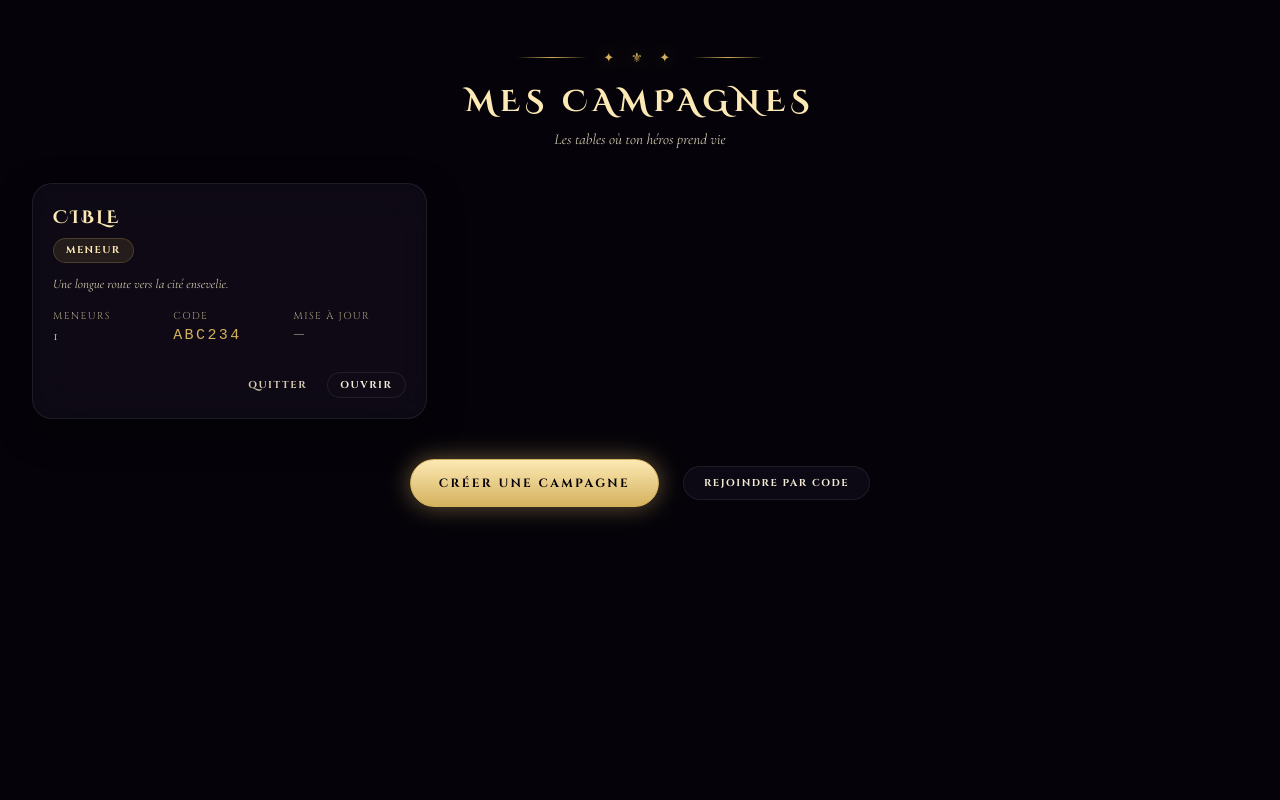
Scenario: <LeaveCampaignModal> via screen › erreur campaign-not-found → message dédié
Click the button "Quitter" at (278, 384), box [236,372,319,398]
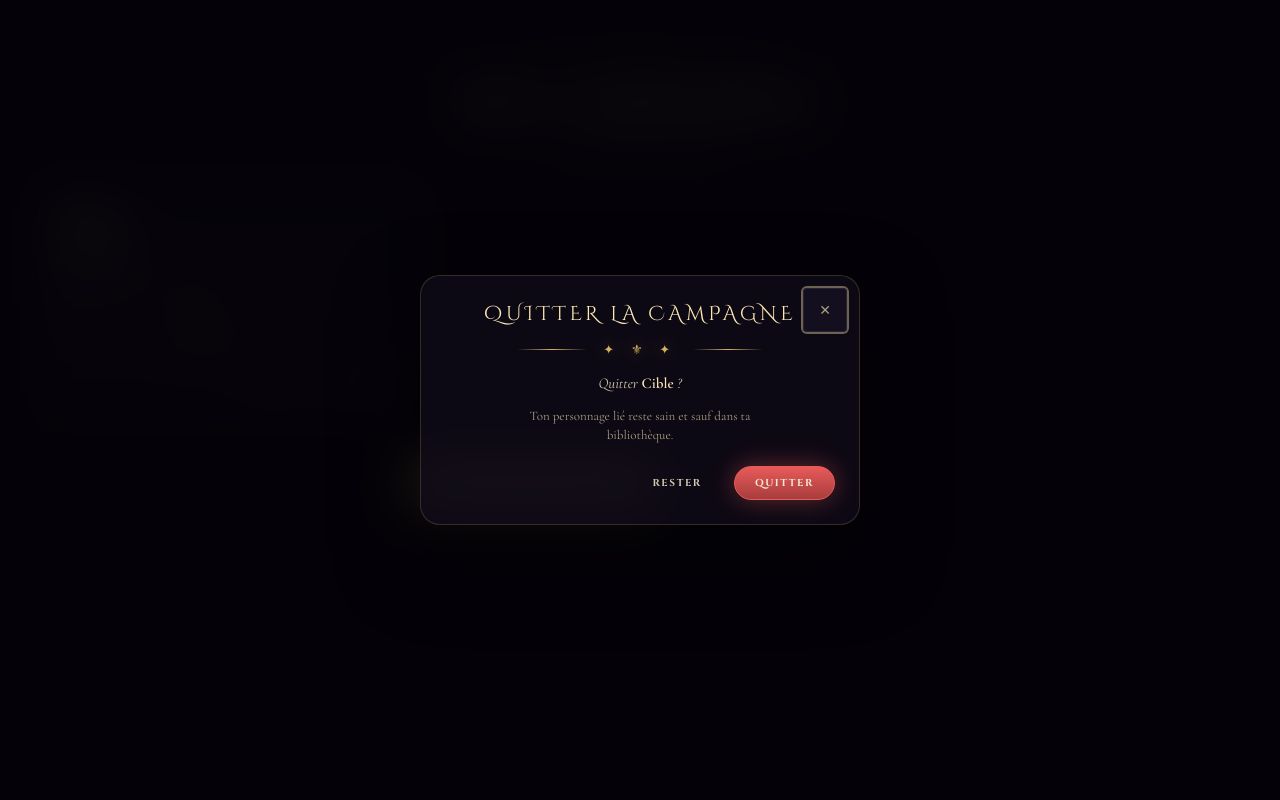
Click the button "Quitter" at (784, 483), box [734,466,835,500]
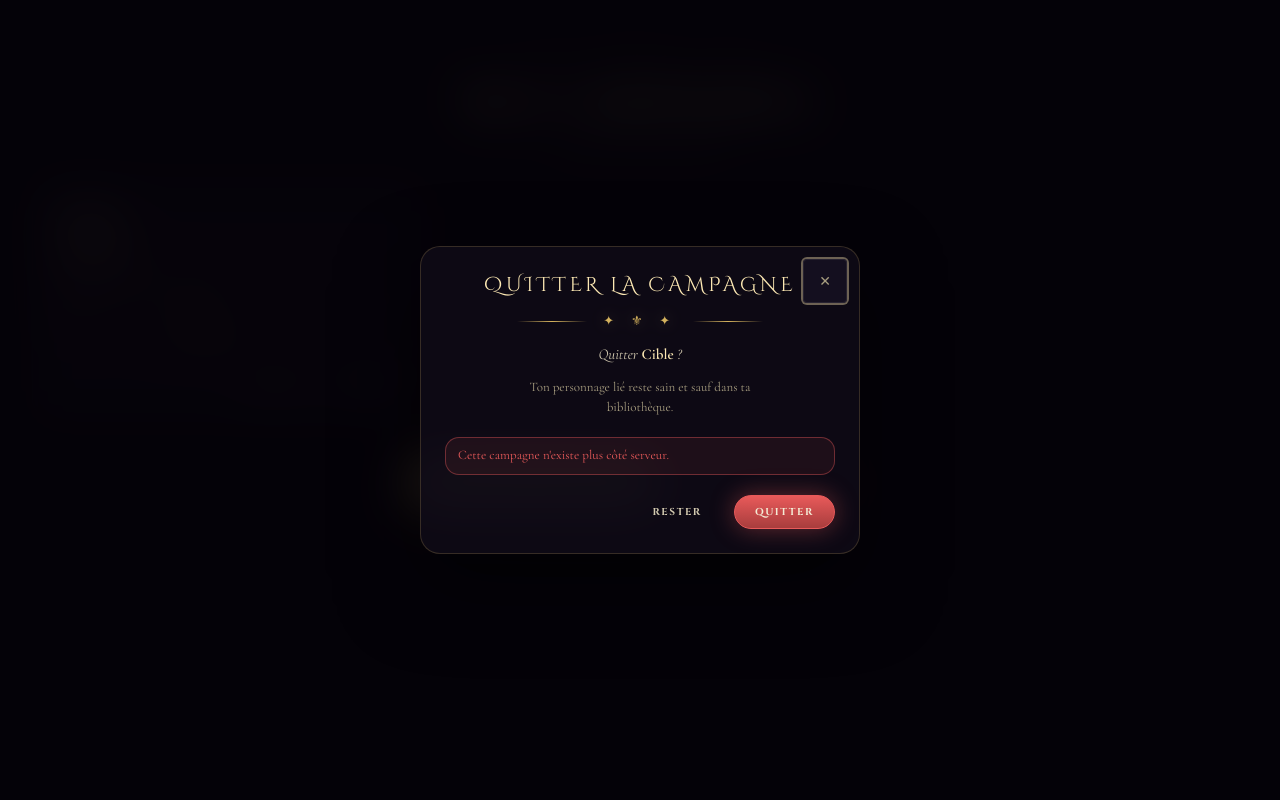
Now the text "Cette campagne n'existe plus côté serveur." is shown, box [445,437,835,475]
